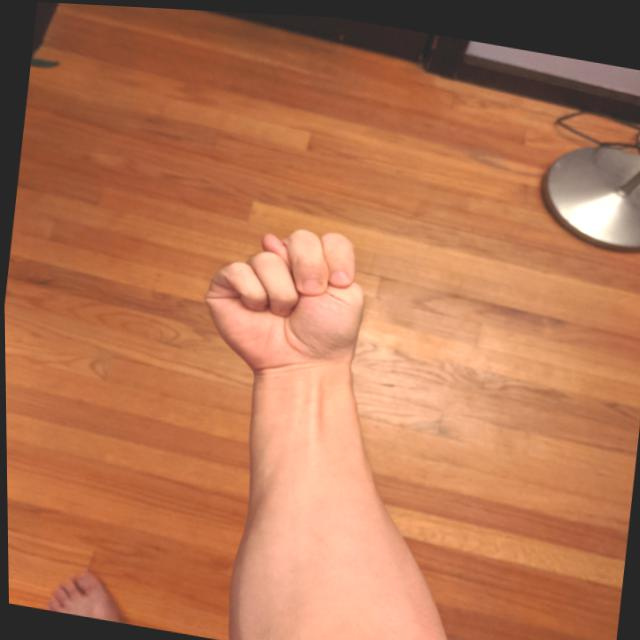N: (184, 203, 382, 392)
